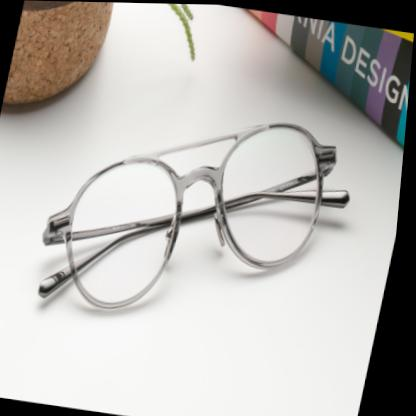Spectacles: (31, 87, 370, 339)
